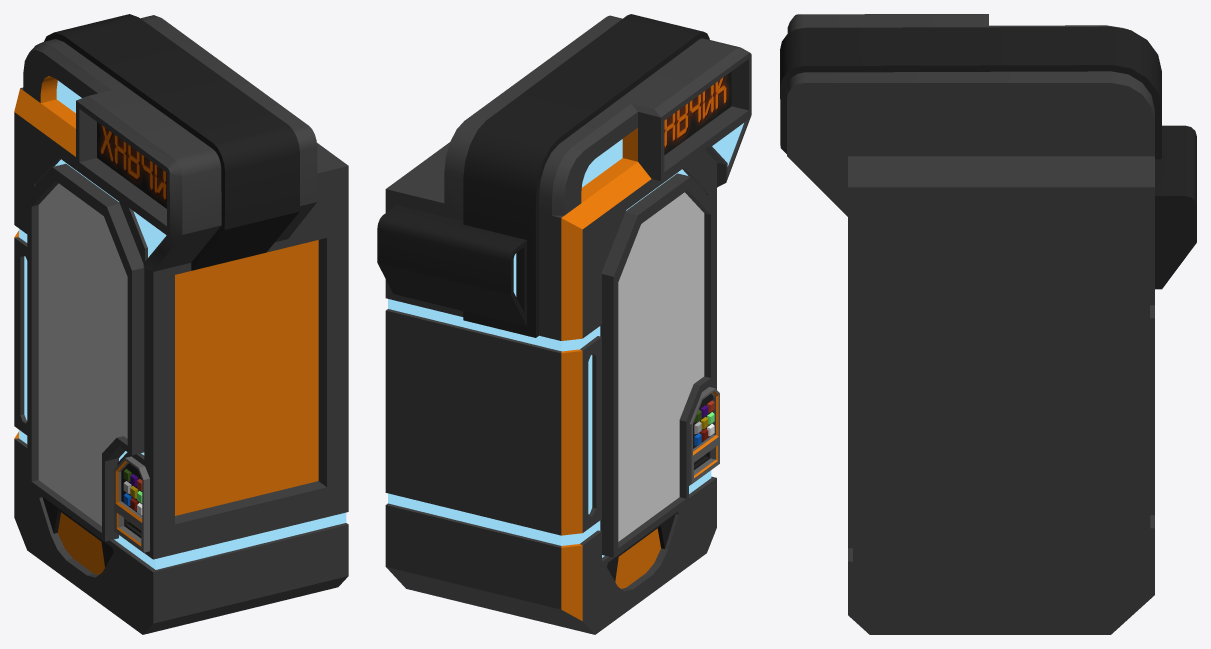
The model's file is VendingMachine_1.fbx.
The picture shows the model from 3 angles, left to right: view 1: azimuth 30°, elevation 25°; view 2: azimuth 150°, elevation 25°; view 3: azimuth 270°, elevation 25°; orthographic projection. The views are drawn at different scales.
Parts seen in each view (by area): view 1: VendingMachine_1; view 2: VendingMachine_1; view 3: VendingMachine_1.
Part boxes in pixels (x1,y1,x2,y2): VendingMachine_1: (14,14,348,634); VendingMachine_1: (377,14,751,634); VendingMachine_1: (780,14,1196,634).
Size of the model in its own units: 97.33 by 229 by 164.
